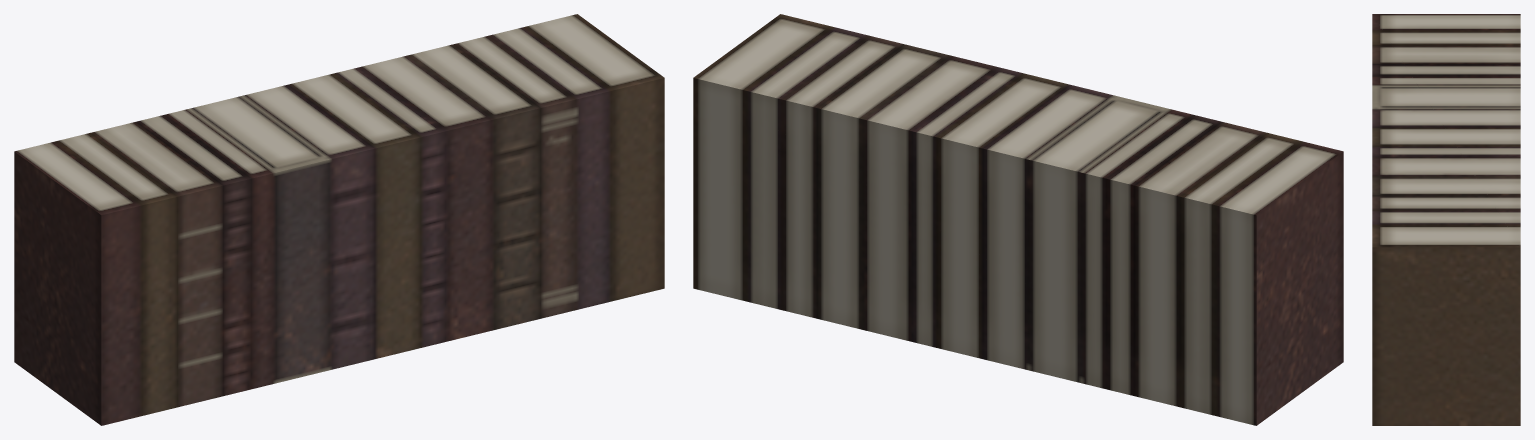
The model's file is Book.Row.Short_2.fbx.
3 renders of one model, left to right at view 1: azimuth 30°, elevation 25°; view 2: azimuth 150°, elevation 25°; view 3: azimuth 270°, elevation 25°, orthographic. The views are drawn at different scales.
Parts seen in each view (by area): view 1: Book.Row.Short_2; view 2: Book.Row.Short_2; view 3: Book.Row.Short_2.
Boxes of the visible parts, box(x1,y1,x2,y2) form: Book.Row.Short_2: box(14, 14, 664, 425); Book.Row.Short_2: box(693, 14, 1343, 425); Book.Row.Short_2: box(1372, 14, 1520, 425).
Bounding box in the file's own units: 65.87 × 23.54 × 17.67.
